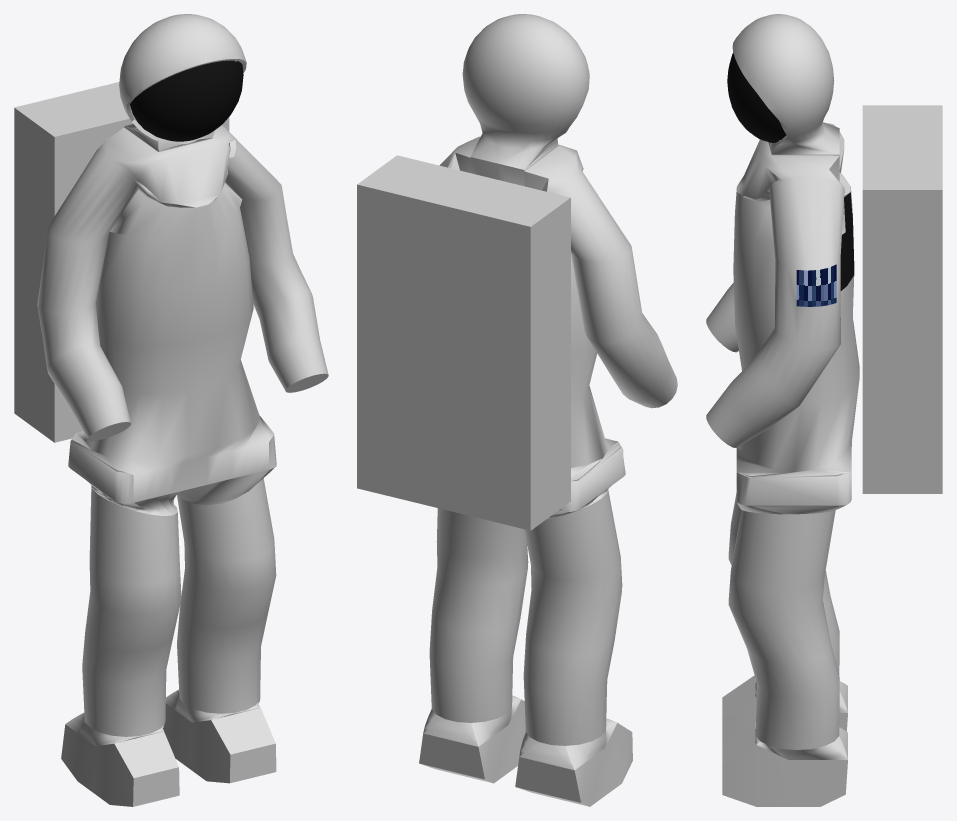
The model's file is Astro2.FBX.
3 views of the same model, side by side, from view 1: azimuth 30°, elevation 25°; view 2: azimuth 150°, elevation 25°; view 3: azimuth 270°, elevation 25° (orthographic).
Visible parts, largest first — view 1: Sphere001; view 2: Sphere001; view 3: Sphere001, Flag.
Part boxes in pixels (bbox=[...]): Sphere001: bbox=[14, 14, 328, 806]; Sphere001: bbox=[357, 14, 677, 806]; Sphere001: bbox=[706, 14, 942, 806]; Flag: bbox=[796, 264, 836, 306].
Bounding box in the file's own units: 33.01 × 91.41 × 26.04.
